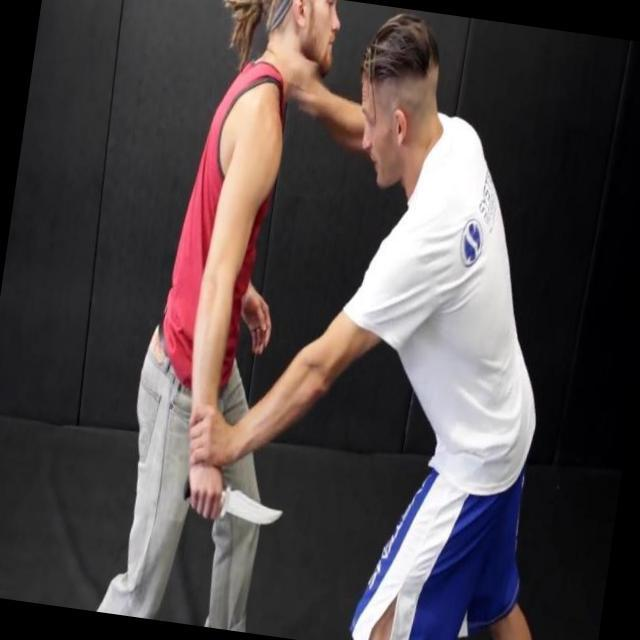Knife: (172, 463, 294, 544)
